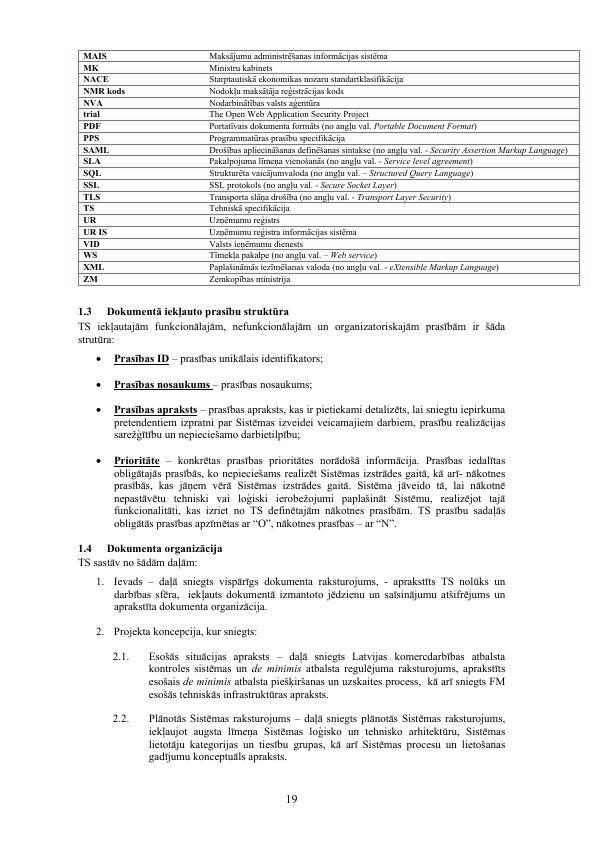table: (74, 47, 584, 290)
text: (109, 646, 517, 769), (110, 452, 510, 534), (71, 302, 513, 348), (91, 574, 515, 616), (110, 402, 508, 443), (71, 539, 240, 570), (105, 350, 327, 369), (112, 378, 317, 394), (87, 622, 262, 638)
